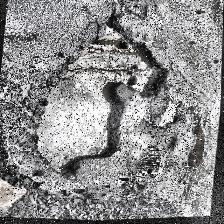pothole: (28, 16, 176, 188)
